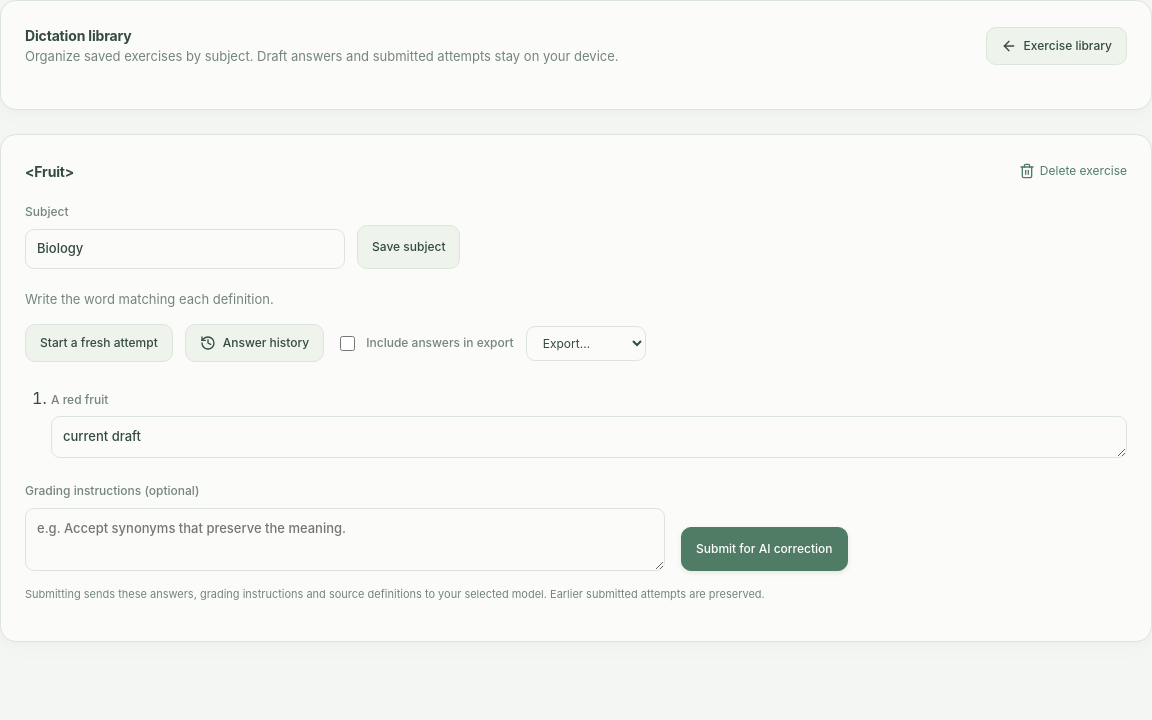
it: shows read-only saved attempts without overwriting the current draft
Expected: the text box showing "current draft" is shown, 51,416 -> 1127,458
Click the button "Answer history". click: (255, 343)
box: 185,324 -> 324,362
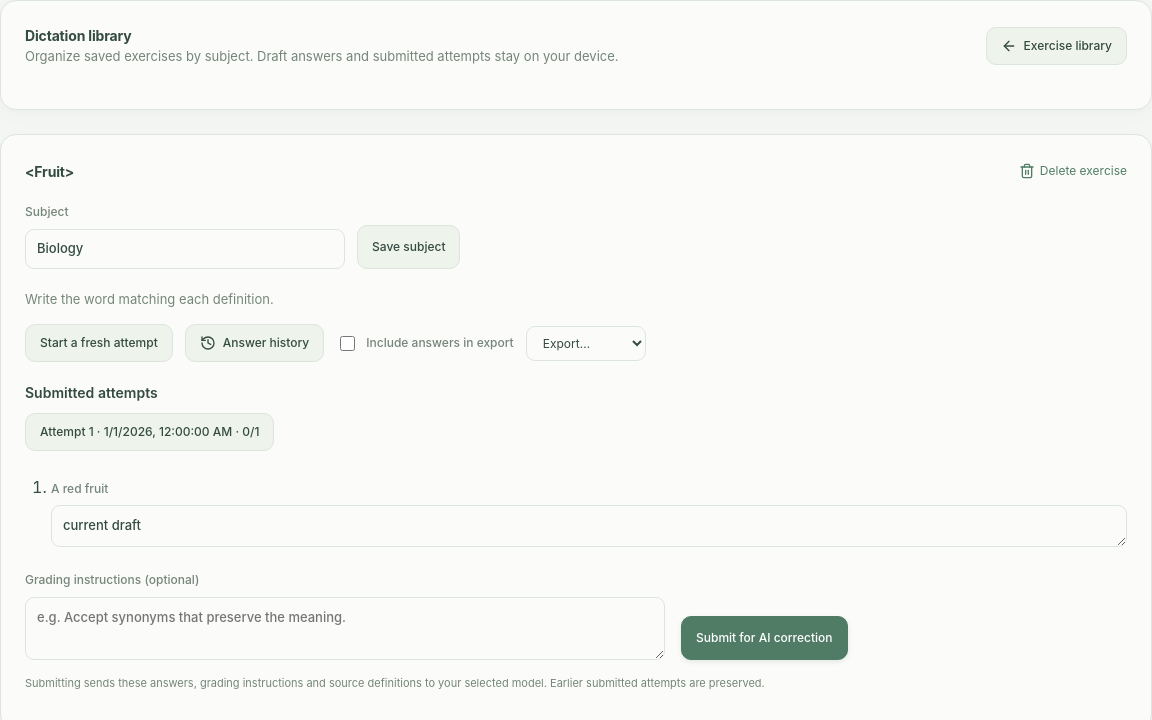
Click the button "Attempt 1 · 1/1/2026, 12:00:00 AM · 0/1". click: (150, 432)
box: 25,413 -> 274,451
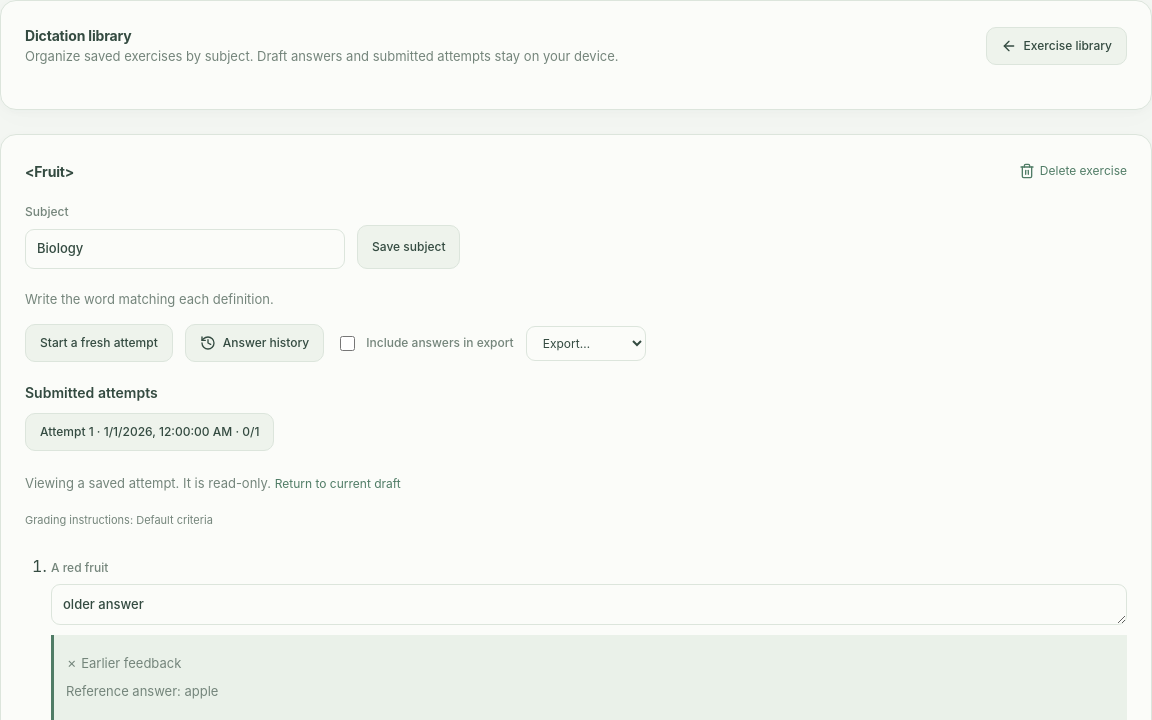
Expected: the text box named "Answer 1" is disabled, 51,584 -> 1127,625
Expected: the text "✗ Earlier feedback" is shown, 66,655 -> 181,671
Click the button "Return to current draft". click: (338, 484)
box: 275,471 -> 401,497
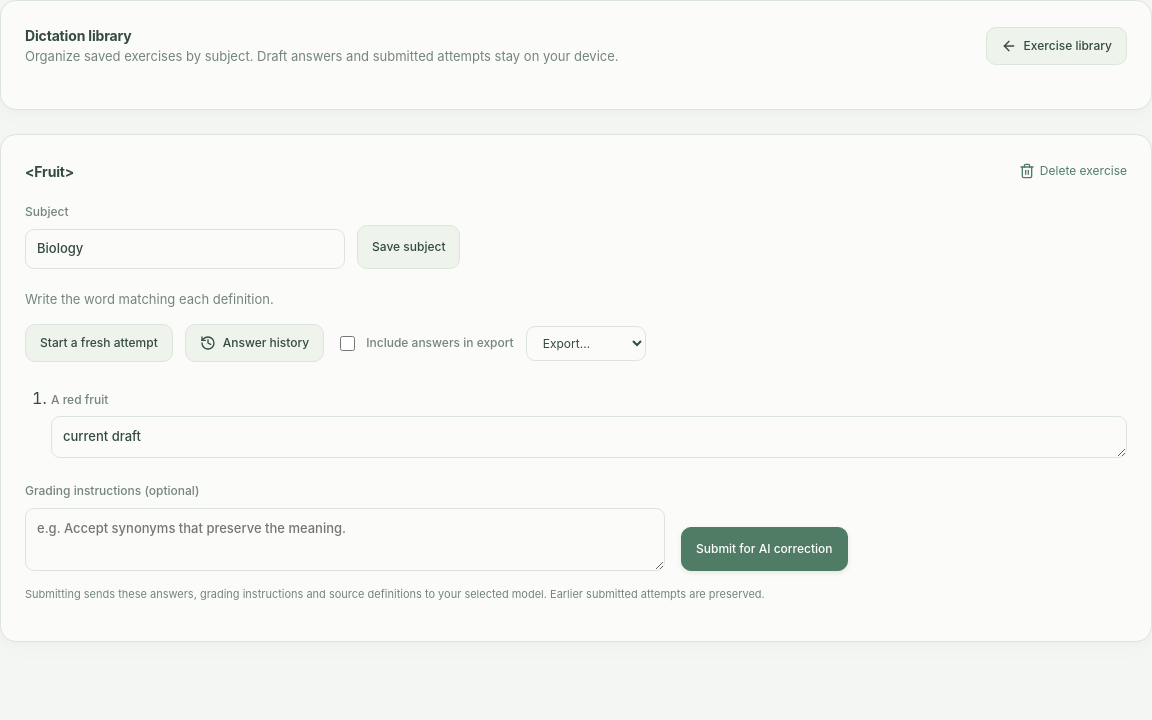
Expected: the text box showing "current draft" is shown, 51,416 -> 1127,458
